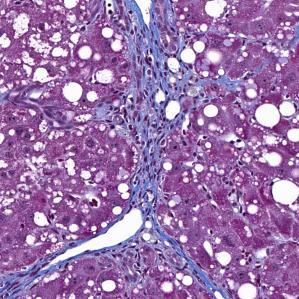fibrosis: (120, 36, 192, 142), (129, 150, 169, 224)
